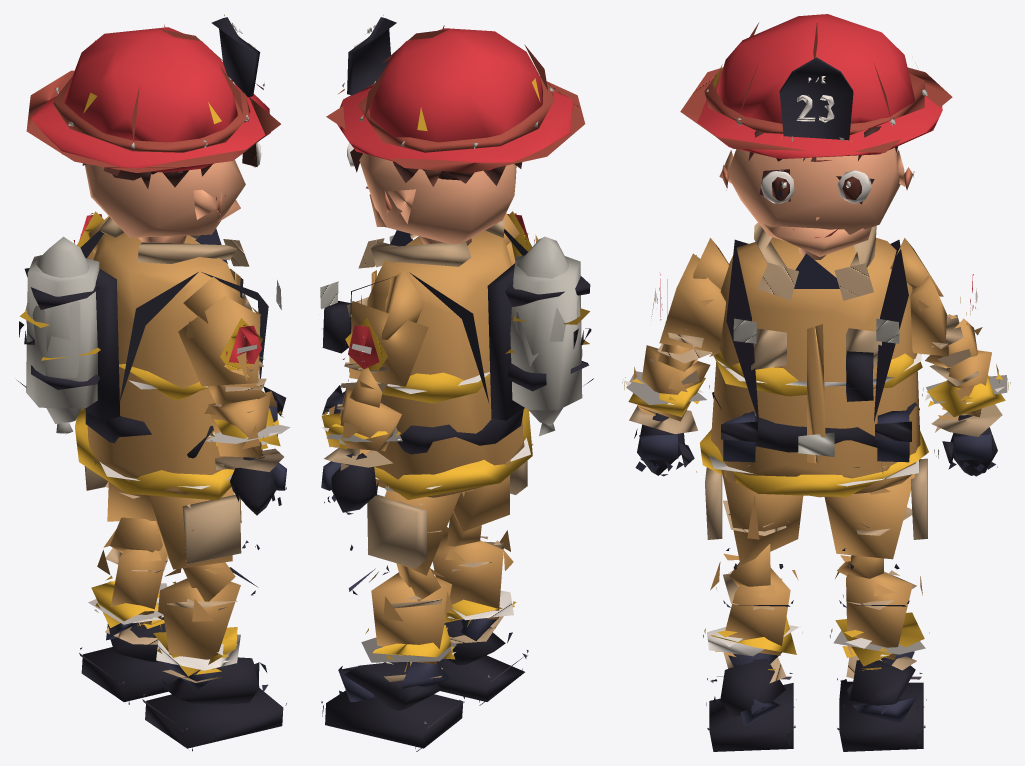
The picture shows the model from 3 angles, left to right: view 1: azimuth 30°, elevation 25°; view 2: azimuth 150°, elevation 25°; view 3: azimuth 270°, elevation 25°; orthographic projection. The views are drawn at different scales.
Visible parts, largest first — view 1: torso, head, footR, shinR, armR, shinL, legR, foreArmR, footL, handR, legL, armL; view 2: torso, head, footL, shinL, shinR, armL, legL, foreArmL, footR, legR, handL, armR; view 3: torso, head, shinL, footL, footR, shinR, legL, foreArmL, legR, foreArmR, armR, armL (+2 smaller).
Boxes of the visible parts, x1,y1,x2,y2 form: torso: [17, 217, 286, 500]; head: [26, 14, 280, 243]; footR: [142, 657, 286, 751]; shinR: [153, 540, 259, 682]; armR: [178, 277, 263, 386]; shinL: [88, 517, 176, 644]; legR: [149, 487, 241, 574]; foreArmR: [204, 365, 290, 471]; footL: [79, 615, 177, 704]; handR: [230, 454, 286, 515]; legL: [84, 466, 159, 533]; armL: [73, 211, 109, 259]; torso: [320, 219, 593, 499]; head: [326, 14, 585, 245]; footL: [321, 662, 464, 751]; shinL: [348, 544, 456, 681]; shinR: [432, 512, 516, 643]; armL: [342, 270, 428, 389]; legL: [367, 486, 464, 575]; foreArmL: [321, 369, 402, 470]; footR: [437, 617, 528, 705]; legR: [453, 443, 533, 531]; handL: [321, 453, 378, 514]; armR: [503, 211, 538, 265]; torso: [700, 223, 934, 497]; head: [680, 14, 952, 259]; shinL: [829, 548, 929, 678]; footL: [837, 651, 926, 751]; footR: [706, 652, 796, 751]; shinR: [703, 544, 802, 683]; legL: [824, 456, 936, 561]; foreArmL: [922, 314, 1010, 436]; legR: [696, 467, 803, 565]; foreArmR: [622, 343, 712, 433]; armR: [651, 238, 728, 356]; armL: [890, 238, 982, 356].
Bounding box in the file's own units: 0.6766 × 1.8 × 0.9105.
